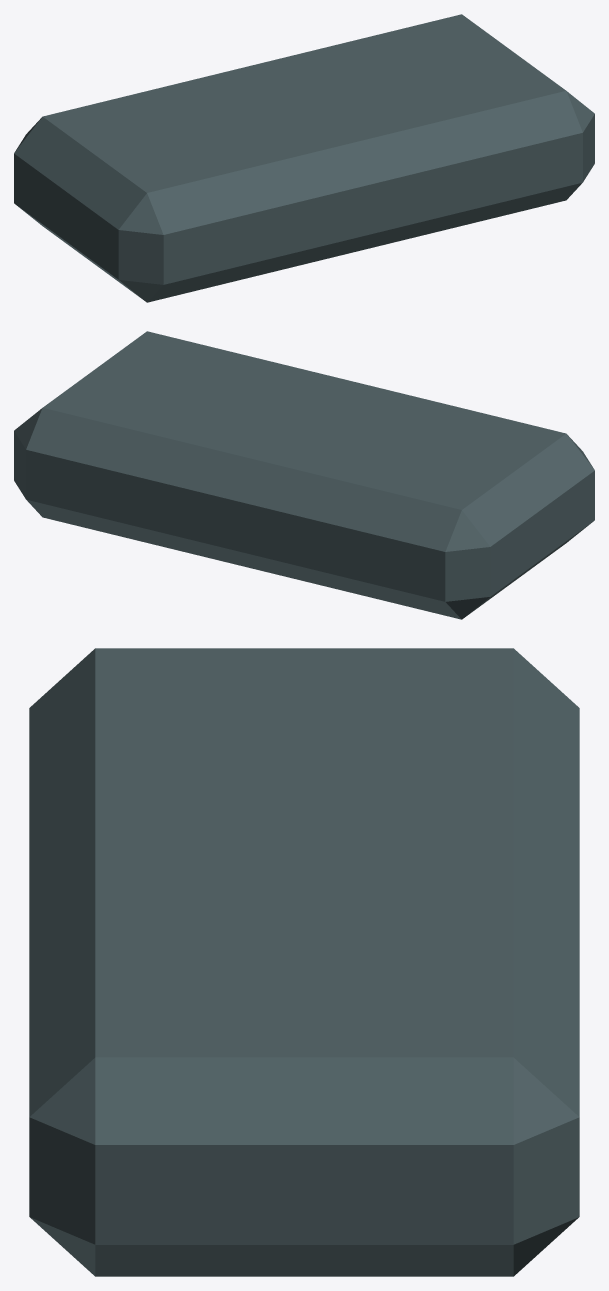
File: collar.glb
3 renders of one model, top to bottom at view 1: azimuth 30°, elevation 25°; view 2: azimuth 150°, elevation 25°; view 3: azimuth 270°, elevation 25°, orthographic. The views are drawn at different scales.
Visible parts, largest first — view 1: collar; view 2: collar; view 3: collar.
Part boxes in pixels (x1=…): collar: x1=14, y1=14, x2=594, y2=302; collar: x1=14, y1=331, x2=594, y2=619; collar: x1=29, y1=648, x2=579, y2=1276.
Size of the model in its own units: 1 by 0.22 by 0.5.
